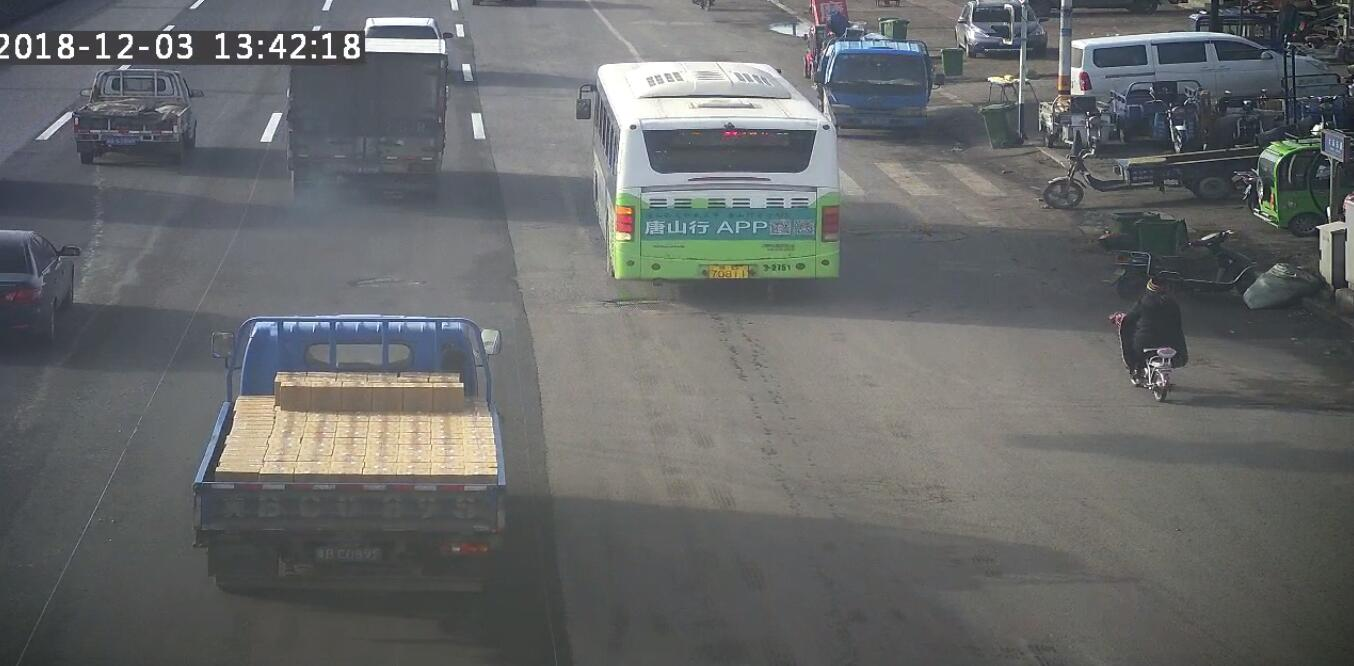smoke: (272, 154, 367, 226)
